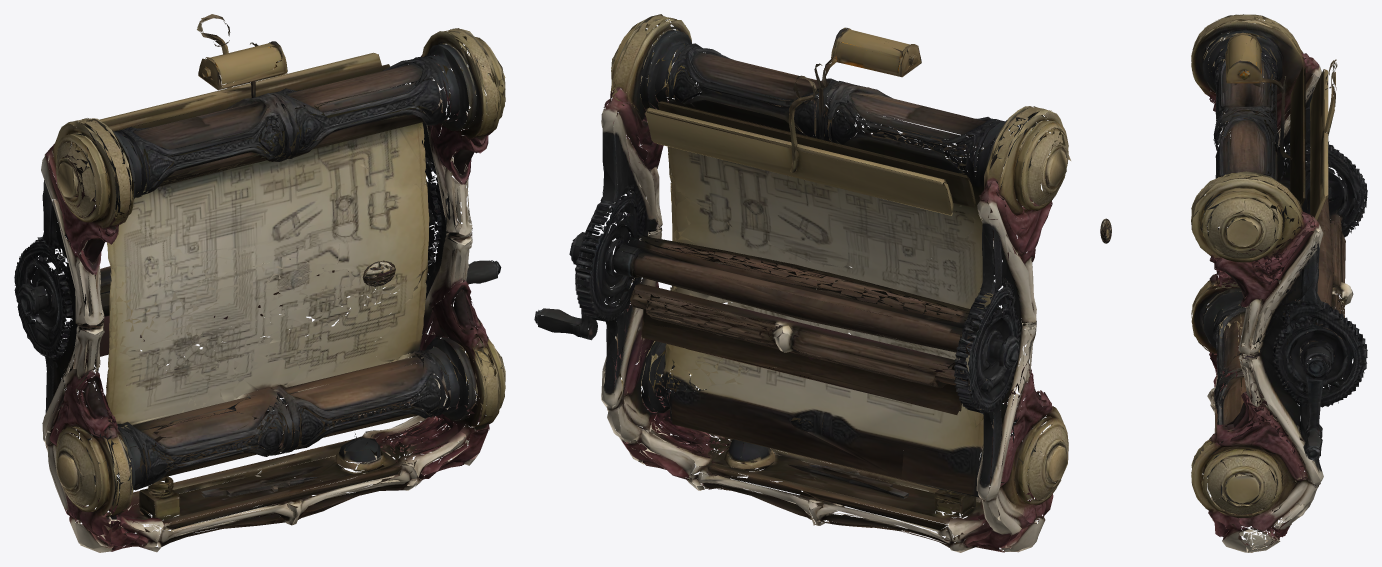
The model's file is kaelen_drafting_scroll_reel.glb.
The picture shows the model from 3 angles, left to right: view 1: azimuth 30°, elevation 25°; view 2: azimuth 150°, elevation 25°; view 3: azimuth 270°, elevation 25°; orthographic projection. The views are drawn at different scales.
Visible parts, largest first — view 1: node_0, HB_PULSE_00; view 2: node_0; view 3: node_0.
Boxes of the visible parts, box(x1,y1,x2,y2) form: node_0: box(14, 14, 505, 552); HB_PULSE_00: box(362, 260, 395, 286); node_0: box(534, 14, 1070, 552); node_0: box(1191, 14, 1367, 552).
Bounding box in the file's own units: 0.9345 × 0.8929 × 0.5179.
Materials: 1 (1 with a texture image).
